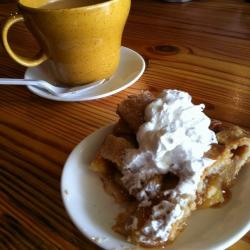apple_pie: (92, 86, 249, 235)
